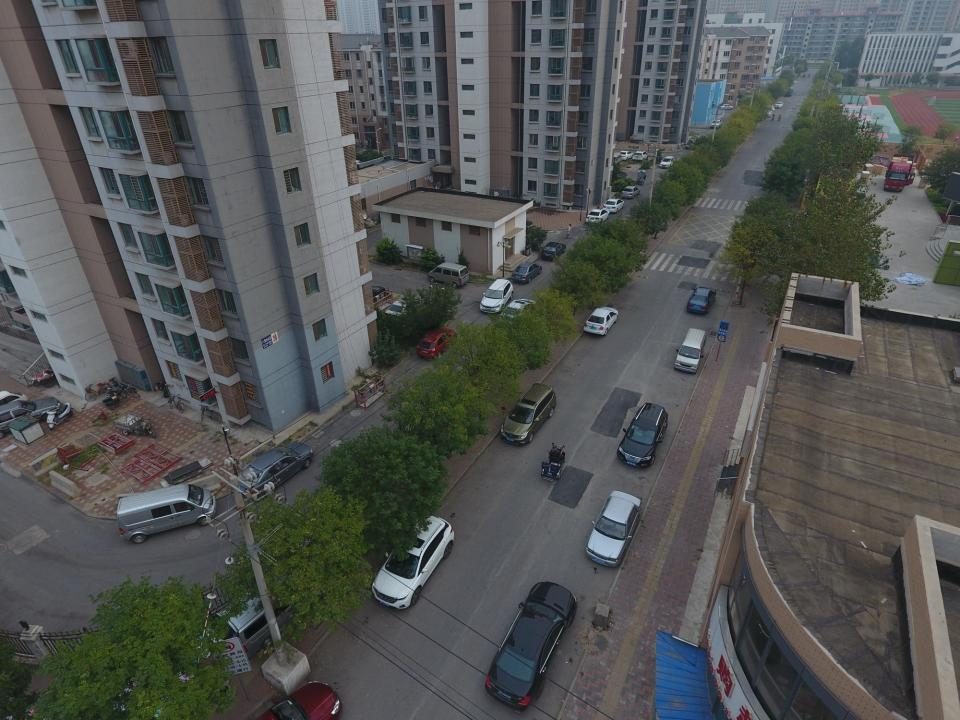car: (485, 582, 577, 710), (372, 516, 454, 608), (232, 442, 313, 500), (586, 489, 642, 568), (500, 383, 556, 445), (617, 402, 668, 468), (0, 397, 61, 439), (417, 328, 457, 359), (480, 279, 514, 312), (499, 298, 539, 326), (583, 307, 618, 336), (686, 286, 717, 314), (384, 297, 420, 320), (346, 285, 386, 304), (511, 262, 542, 283), (540, 241, 566, 260), (586, 208, 610, 223), (602, 198, 624, 213), (620, 185, 640, 199), (685, 136, 699, 150), (659, 156, 675, 168), (632, 151, 649, 161), (618, 150, 634, 160), (757, 109, 772, 118), (710, 119, 723, 128), (761, 105, 775, 112), (718, 104, 733, 110), (775, 101, 784, 108)
truck: (883, 153, 915, 192), (784, 86, 793, 97)
van: (215, 558, 337, 659), (116, 484, 216, 543), (674, 328, 706, 374), (428, 262, 470, 288), (610, 152, 622, 165)
